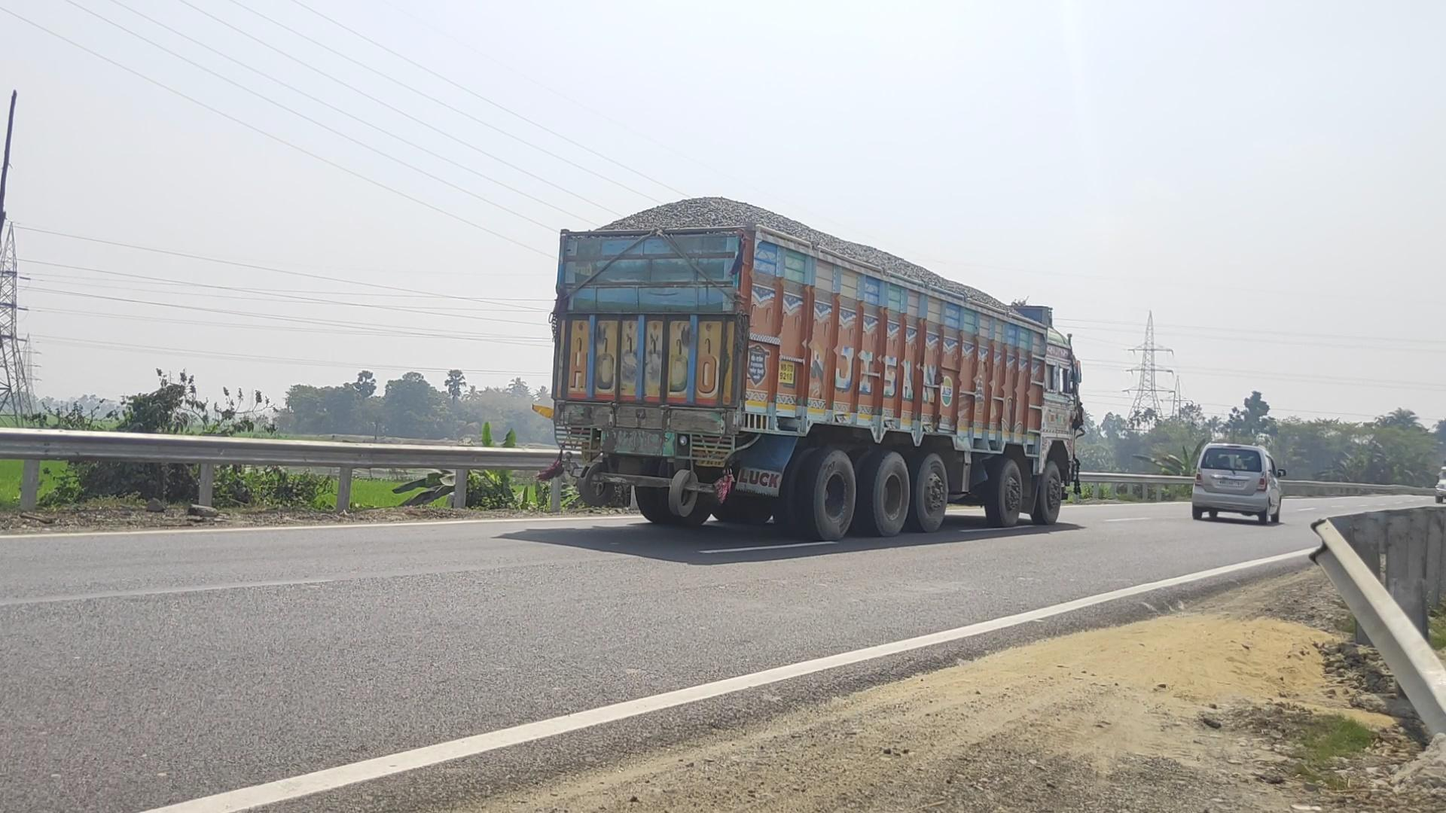car: (1192, 442, 1286, 525)
truck: (551, 197, 1084, 542)
